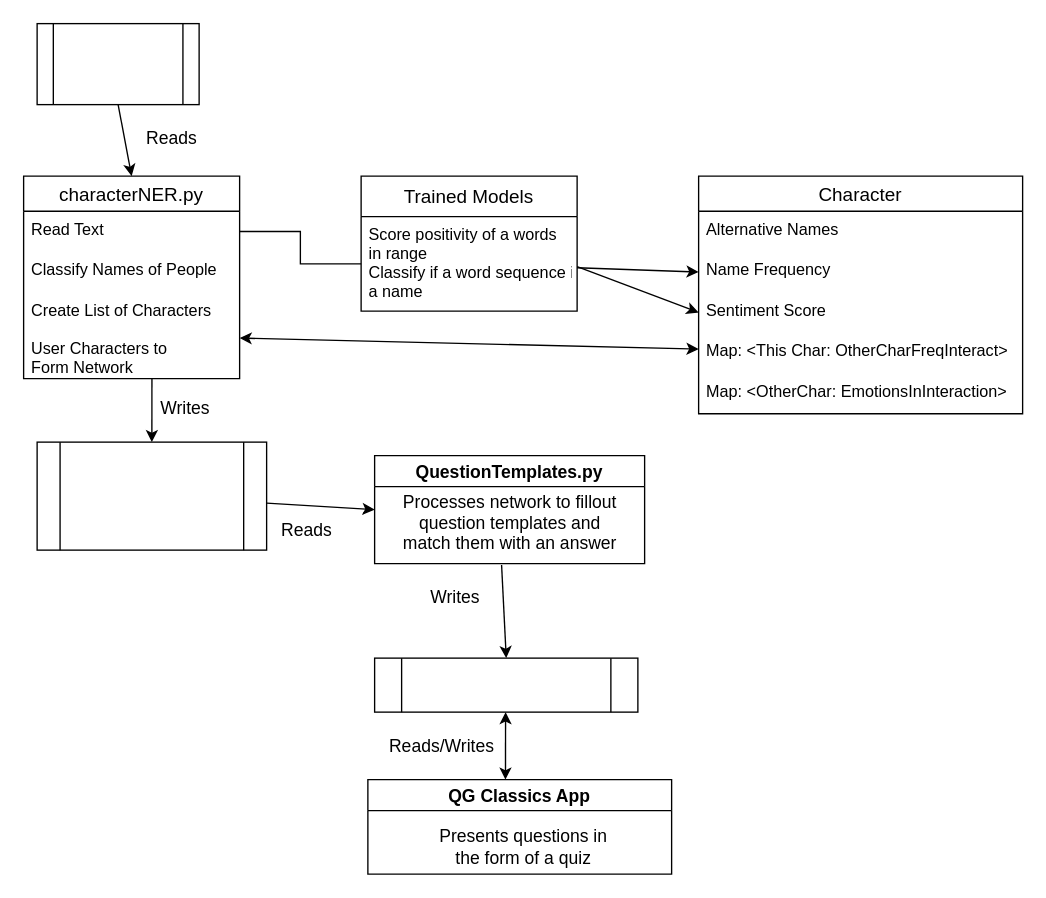
Image size: 1046x898. Some labels were removed from this diagram. The shapes that lost their labels are listed below. From the top down, each one's centre as x and y in pixels, then its label:
At point 117,63: "book.txt".
At point 151,495: "character_network.gml character sentiments.json".
At point 505,684: "question_and_answers.txt".
